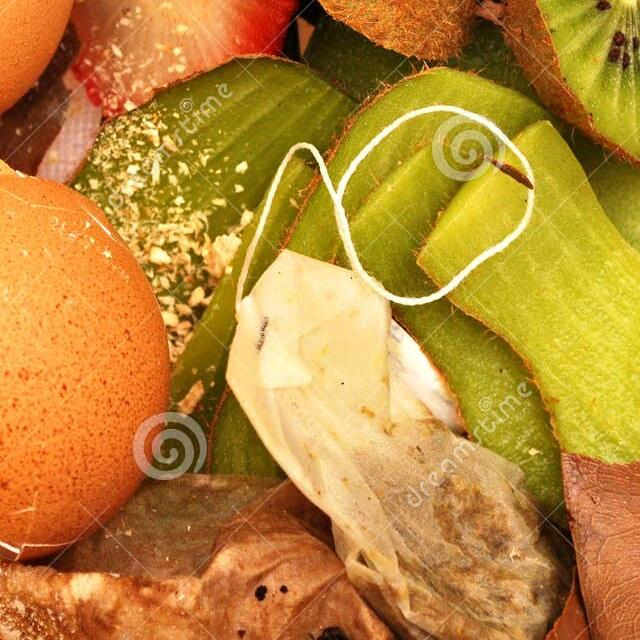food_waste: (392, 61, 640, 484), (0, 165, 224, 535), (302, 385, 580, 640), (0, 525, 332, 640), (176, 565, 539, 640), (482, 0, 640, 137), (64, 0, 307, 78), (196, 0, 499, 58)
